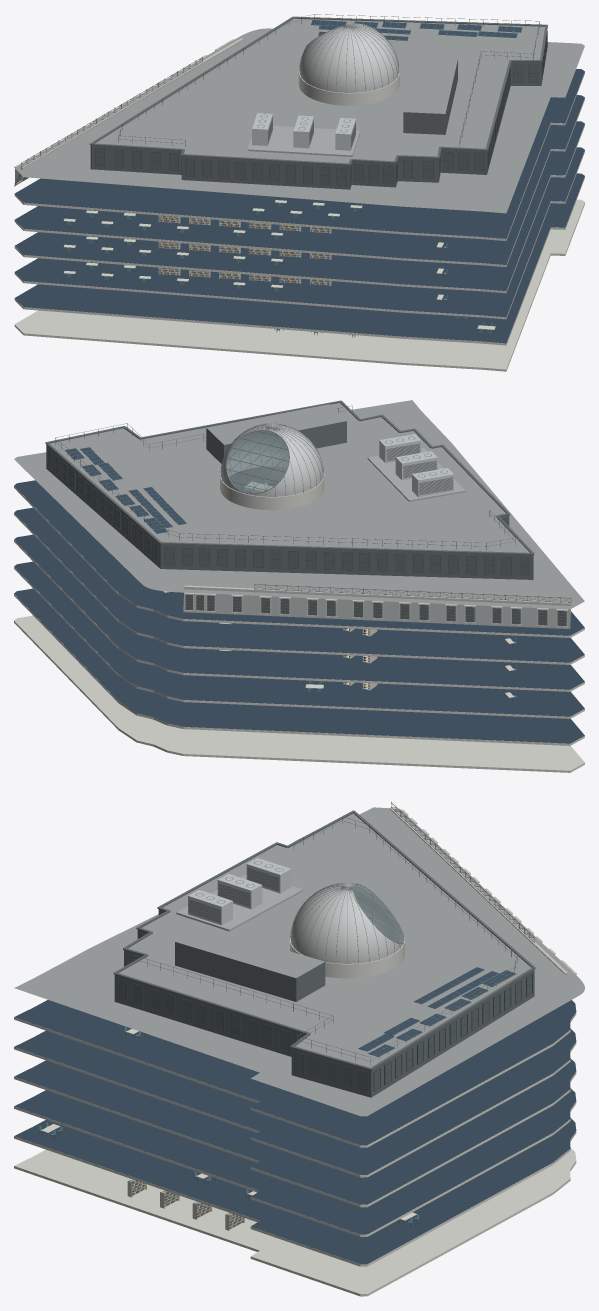
Rendered from lrb-interior-8c5682c44ff4.glb.
3 renders of one model, top to bottom at view 1: azimuth 30°, elevation 25°; view 2: azimuth 150°, elevation 25°; view 3: azimuth 270°, elevation 25°, orthographic. The views are drawn at different scales.
Visible parts, largest first — view 1: LRB.001; view 2: LRB.001; view 3: LRB.001.
Boxes of the visible parts, x1=… form: LRB.001: x1=14, y1=14, x2=584, y2=371; LRB.001: x1=14, y1=400, x2=584, y2=772; LRB.001: x1=14, y1=801, x2=584, y2=1296.
Size of the model in its own units: 89.08 by 36.89 by 69.59.
